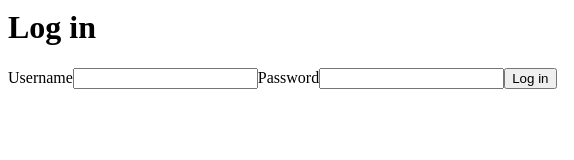
Scenario: a login that returns no user shows a generic failure
The width and height of the screenshot is (574, 160).
In the field labelled "Username": (165, 78) [73,68,258,89], type "alice"
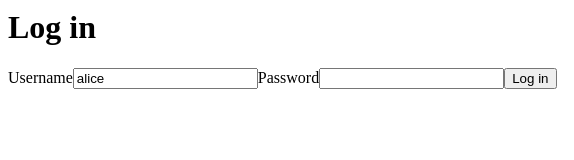
Click the button "Log in": (530, 78) [504,68,556,89]
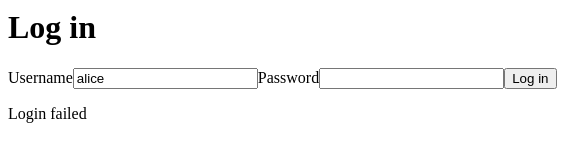
Result: the message reads "Login failed" at [8,105,87,122]
